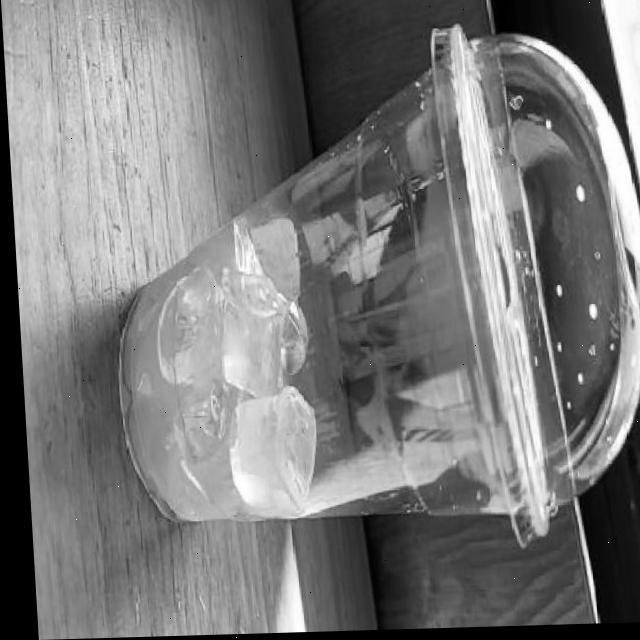cup: (86, 0, 640, 566)
